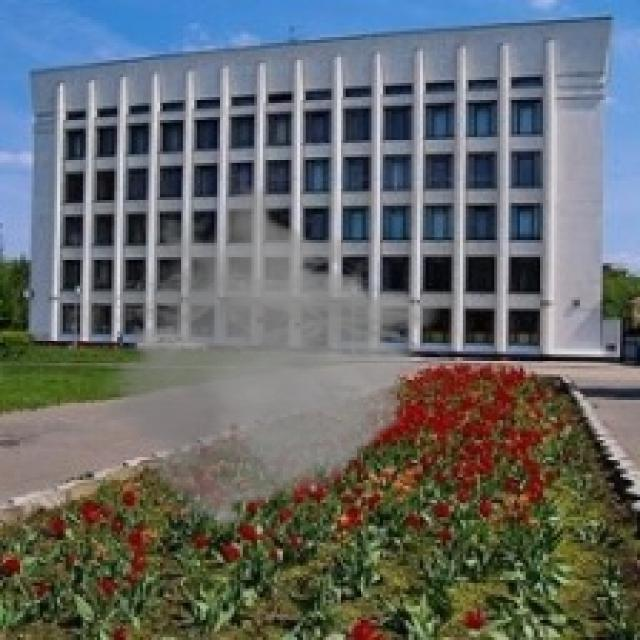smoke: (69, 183, 454, 528)
